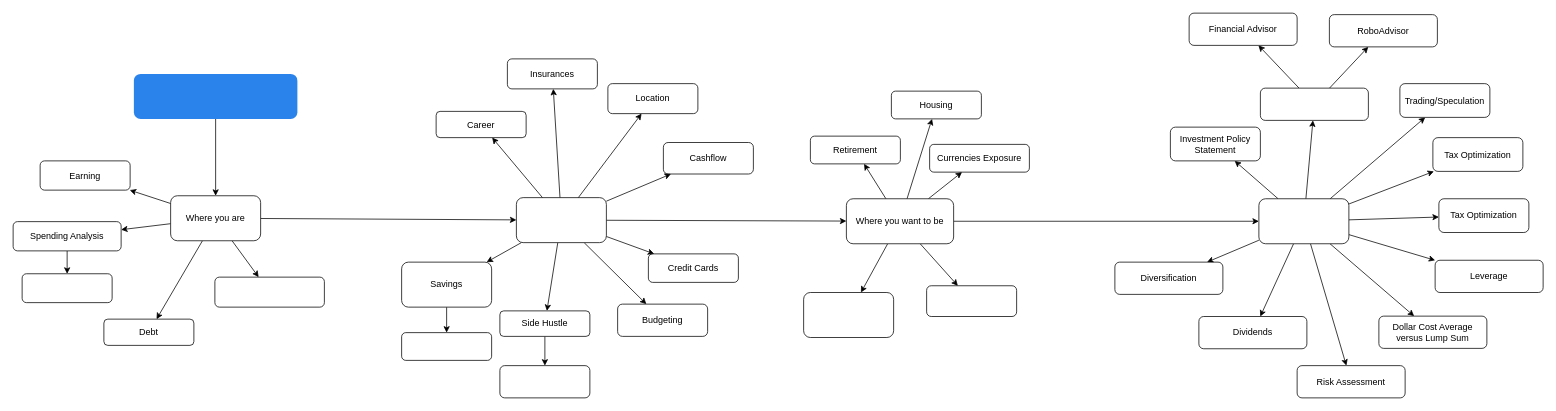
Some shapes in this 1556 by 411 pixel diagram are drawn without their labels. The box of each missing label's shape, as (x1, y1, x2, y2) in pixels:
Active/Passive investing: (1260, 87, 1368, 120)
Emergency Fund: (401, 332, 492, 360)
Financial Goals: (926, 285, 1017, 316)
Investing: (1258, 198, 1349, 244)
Multiple Earnings: (499, 365, 590, 398)
Personal Finance: (134, 74, 297, 118)
Tracking: (21, 273, 112, 303)
Wealth Growth: (803, 292, 894, 338)
Wealth Management: (214, 276, 324, 307)
Where you are going: (516, 197, 606, 243)
